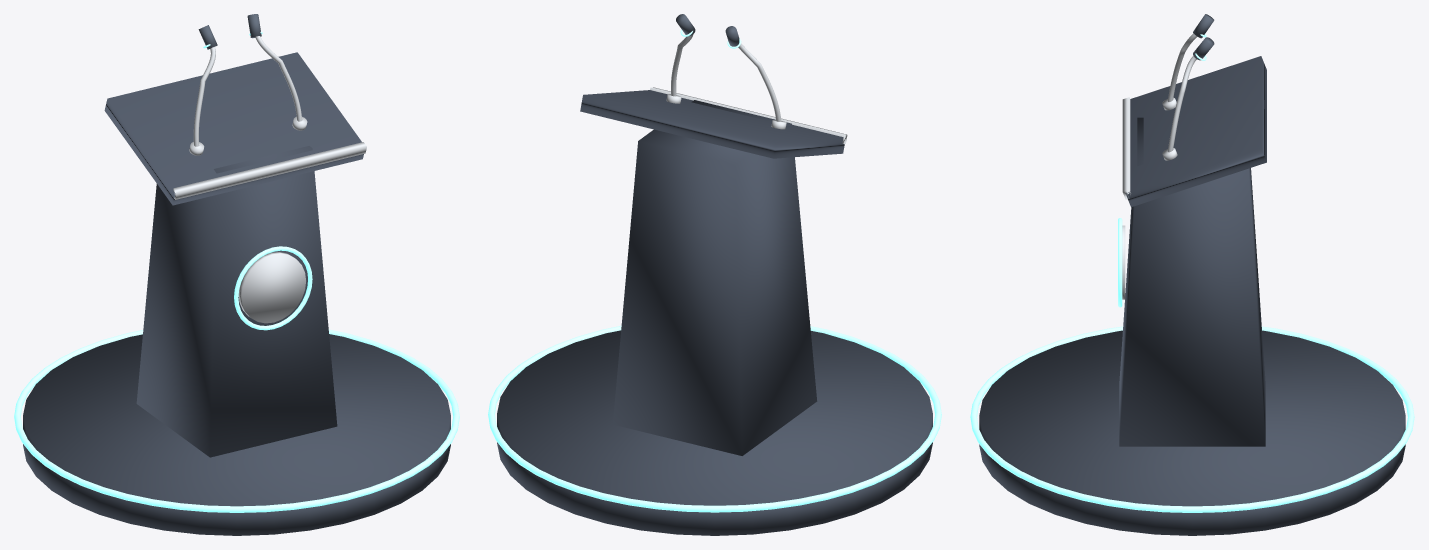
File: conference_podium.glb
The picture shows the model from 3 angles, left to right: view 1: azimuth 30°, elevation 25°; view 2: azimuth 150°, elevation 25°; view 3: azimuth 270°, elevation 25°; orthographic projection. The views are drawn at different scales.
Visible parts, largest first — view 1: Podium_Base, Podium_Column, Podium_Desk, Podium_Base_LED, Podium_Crest, Podium_Desk_Lip, Podium_Crest_Ring, Mic_Stem_L, Mic_Stem_R; view 2: Podium_Column, Podium_Base, Podium_Desk, Podium_Base_LED, Podium_Desk_Lip; view 3: Podium_Base, Podium_Column, Podium_Desk, Podium_Base_LED, Podium_Desk_Lip, Mic_Stem_R.
Boxes of the visible parts, x1,y1,x2,y2 form: Podium_Base: (23, 334, 450, 535); Podium_Column: (136, 146, 337, 457); Podium_Desk: (104, 52, 363, 205); Podium_Base_LED: (14, 329, 459, 512); Podium_Crest: (238, 252, 305, 323); Podium_Desk_Lip: (173, 142, 366, 199); Podium_Crest_Ring: (234, 246, 312, 330); Mic_Stem_L: (193, 46, 215, 146); Mic_Stem_R: (255, 36, 302, 121); Podium_Column: (612, 100, 817, 455); Podium_Base: (497, 330, 932, 535); Podium_Desk: (580, 90, 844, 158); Podium_Base_LED: (488, 325, 941, 512); Podium_Desk_Lip: (650, 87, 847, 143); Podium_Base: (979, 330, 1405, 535); Podium_Column: (1119, 117, 1265, 446); Podium_Desk: (1125, 56, 1266, 207); Podium_Base_LED: (970, 326, 1414, 512); Podium_Desk_Lip: (1122, 97, 1130, 199); Mic_Stem_R: (1167, 56, 1196, 152).
Bounding box in the file's own units: 2.4 × 2.5 × 2.4.
